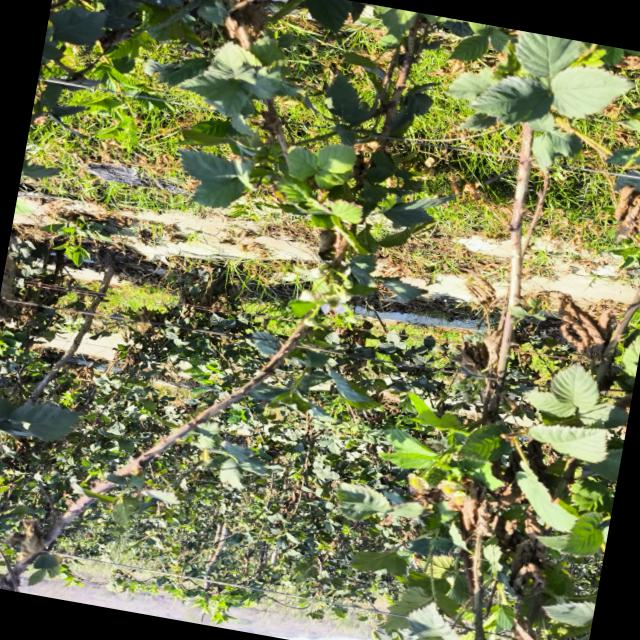boton: (298, 290, 316, 301), (309, 267, 323, 279), (303, 317, 316, 326), (343, 277, 353, 288), (345, 314, 357, 323)
